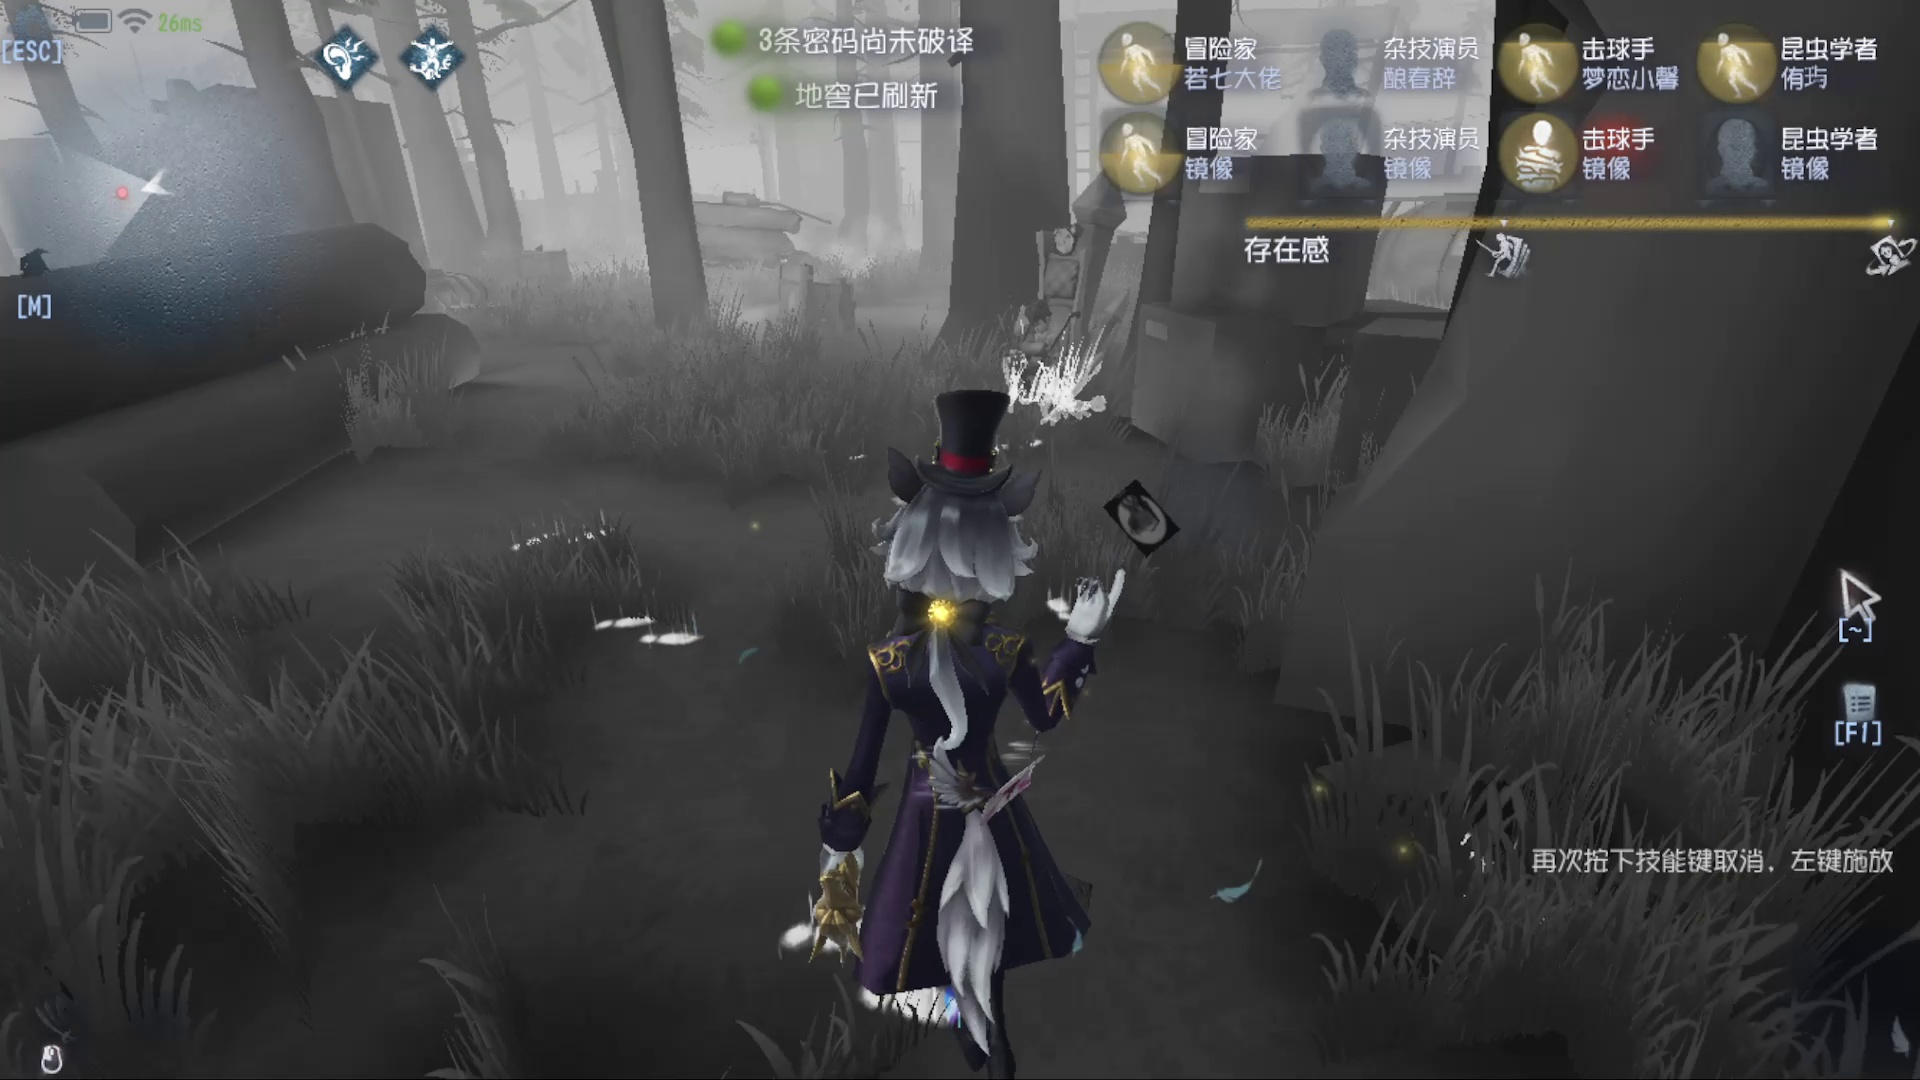狂欢之椅: (1002, 160, 1137, 431)
